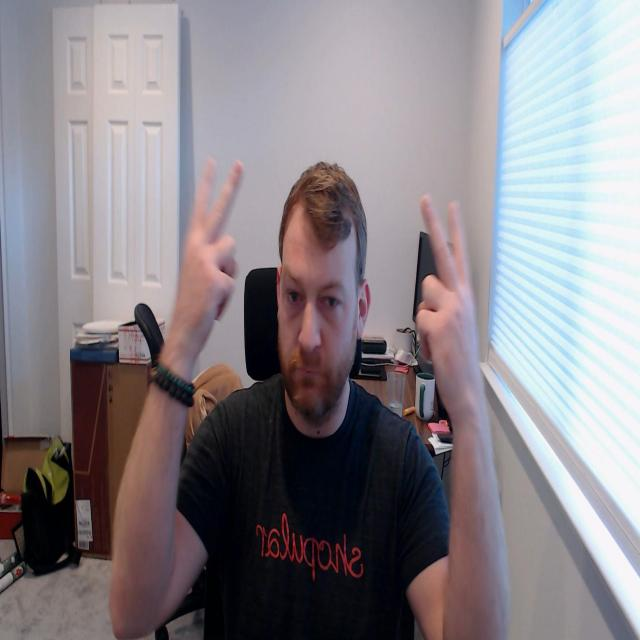face: (278, 235, 360, 424)
